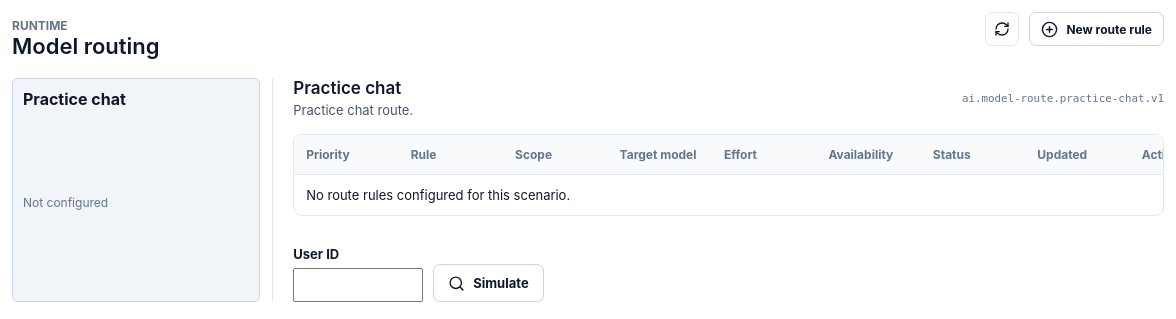
it: AiModelRoutingPanel › shows diagnostic availability returned by the effective-route simulation
Expected: the heading "Practice chat" is shown, [293,78,413,98]
In the field labelled "User ID": (358, 285) [293,268,423,302], type "42"
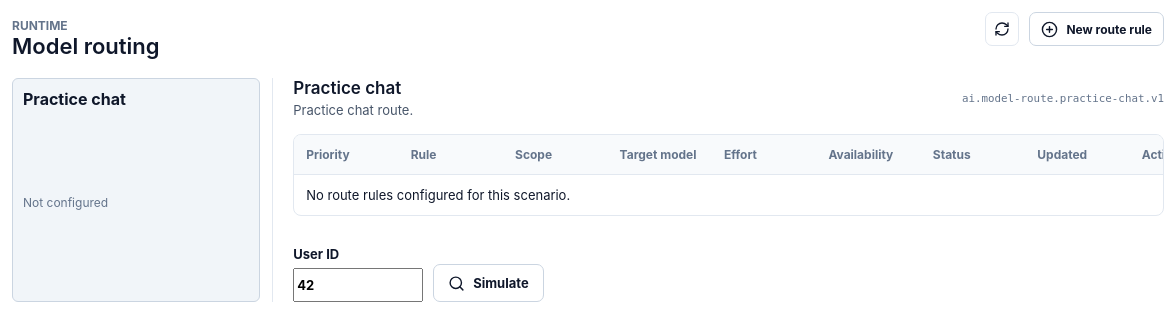
Click the button "Simulate": (488, 283) [433,264,544,302]
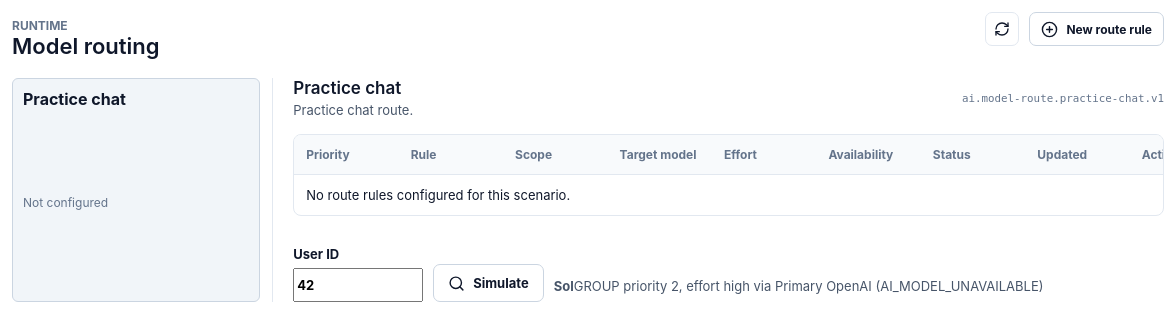
Expected: the text "AI_MODEL_UNAVAILABLE" is shown, [872,278,1044,294]
Expected: the text "effort high" is shown, [574,278,1044,294]
